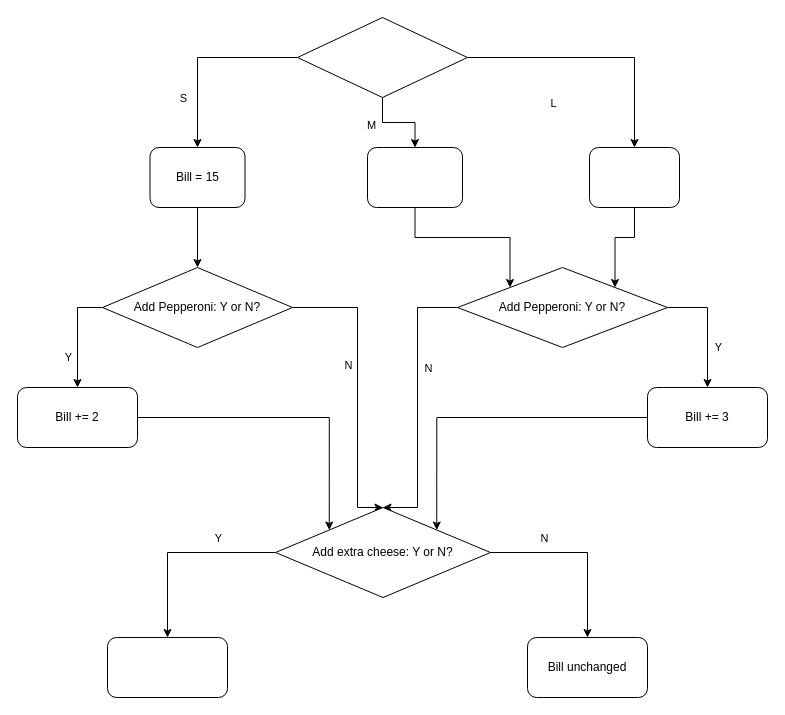
Some shapes in this 785 by 715 pixel diagram are drawn without their labels. Here are the shapes that lost their labels. From the top down, the centre of each, then its label:
pixel 382 57: Pizza size input: S, M, L?
pixel 414 177: Bill = 20
pixel 634 177: Bill = 25
pixel 167 667: Bill += 1
